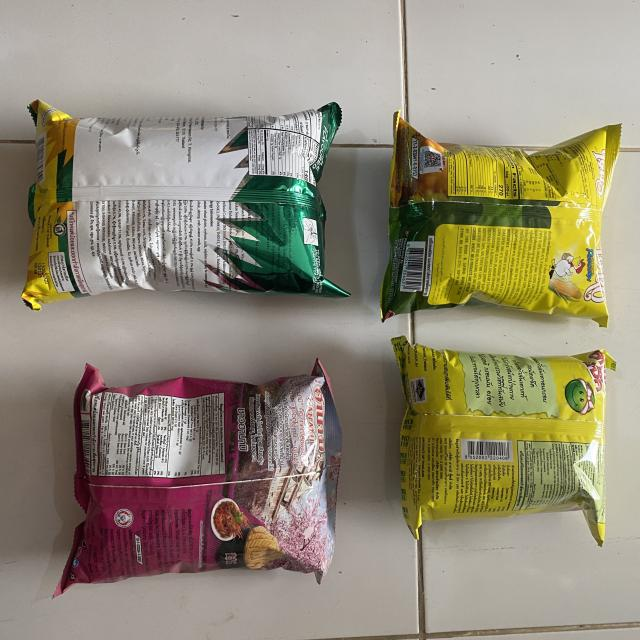plastik: (22, 100, 348, 309), (55, 360, 341, 595), (380, 112, 620, 326), (391, 336, 615, 545)
